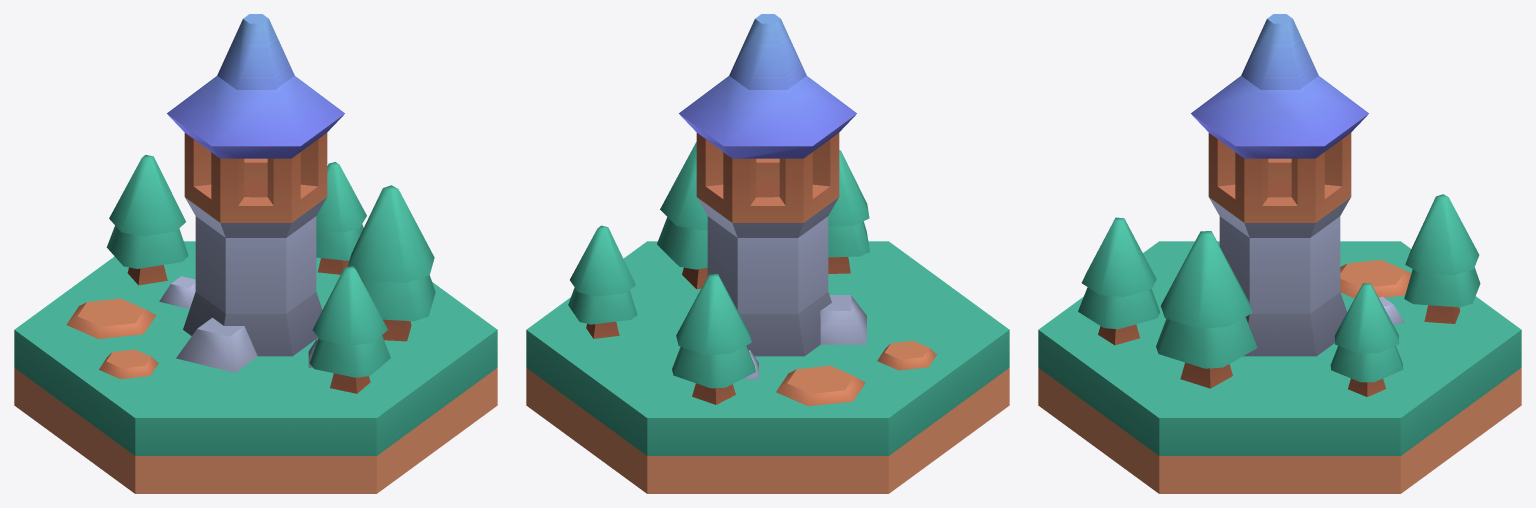
The model's file is kenney-hexagon-building-tower.glb.
3 renders of one model, left to right at view 1: azimuth 30°, elevation 25°; view 2: azimuth 150°, elevation 25°; view 3: azimuth 270°, elevation 25°, orthographic.
Parts seen in each view (by area): view 1: building_tower; view 2: building_tower; view 3: building_tower.
Part boxes in pixels (<box>): building_tower: <box>14,14,497,493</box>; building_tower: <box>526,14,1009,493</box>; building_tower: <box>1038,14,1521,493</box>.
Size of the model in its own units: 1 by 1.02 by 1.15.
Materials: 1 (1 with a texture image).
